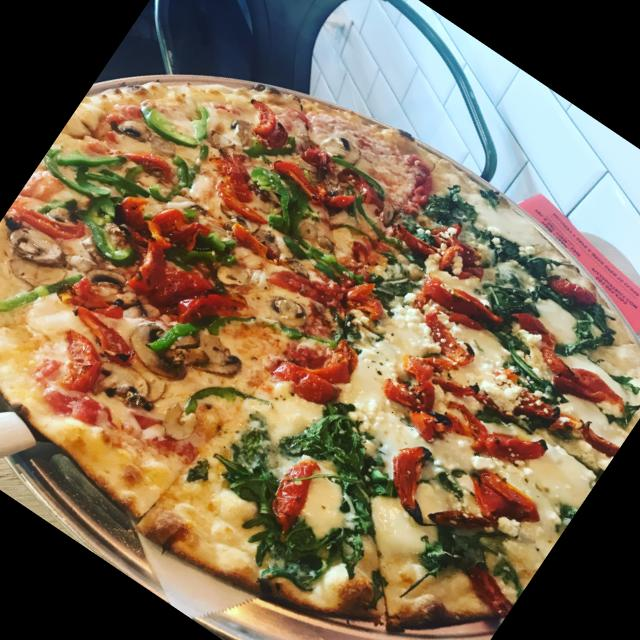mushrooms: (119, 309, 215, 398), (85, 338, 176, 424), (168, 318, 248, 392), (64, 251, 144, 321), (0, 208, 73, 280), (150, 396, 212, 456), (260, 286, 310, 334), (118, 114, 162, 154)
peppers: (136, 266, 255, 386), (270, 232, 393, 340), (499, 370, 622, 472), (0, 232, 92, 346), (526, 338, 636, 428), (448, 452, 550, 546), (456, 398, 560, 490), (132, 124, 220, 218), (122, 79, 218, 165), (396, 298, 488, 381), (398, 206, 492, 286), (412, 264, 508, 342), (255, 446, 338, 536), (281, 317, 369, 401), (373, 432, 456, 518), (173, 360, 254, 439), (266, 348, 348, 420), (230, 92, 302, 170), (374, 354, 451, 424), (216, 163, 288, 231), (48, 124, 120, 192), (40, 150, 115, 215), (84, 153, 154, 214), (268, 182, 324, 242), (406, 401, 464, 454), (546, 270, 602, 320), (335, 164, 390, 213)
pizza: (0, 76, 640, 637)
